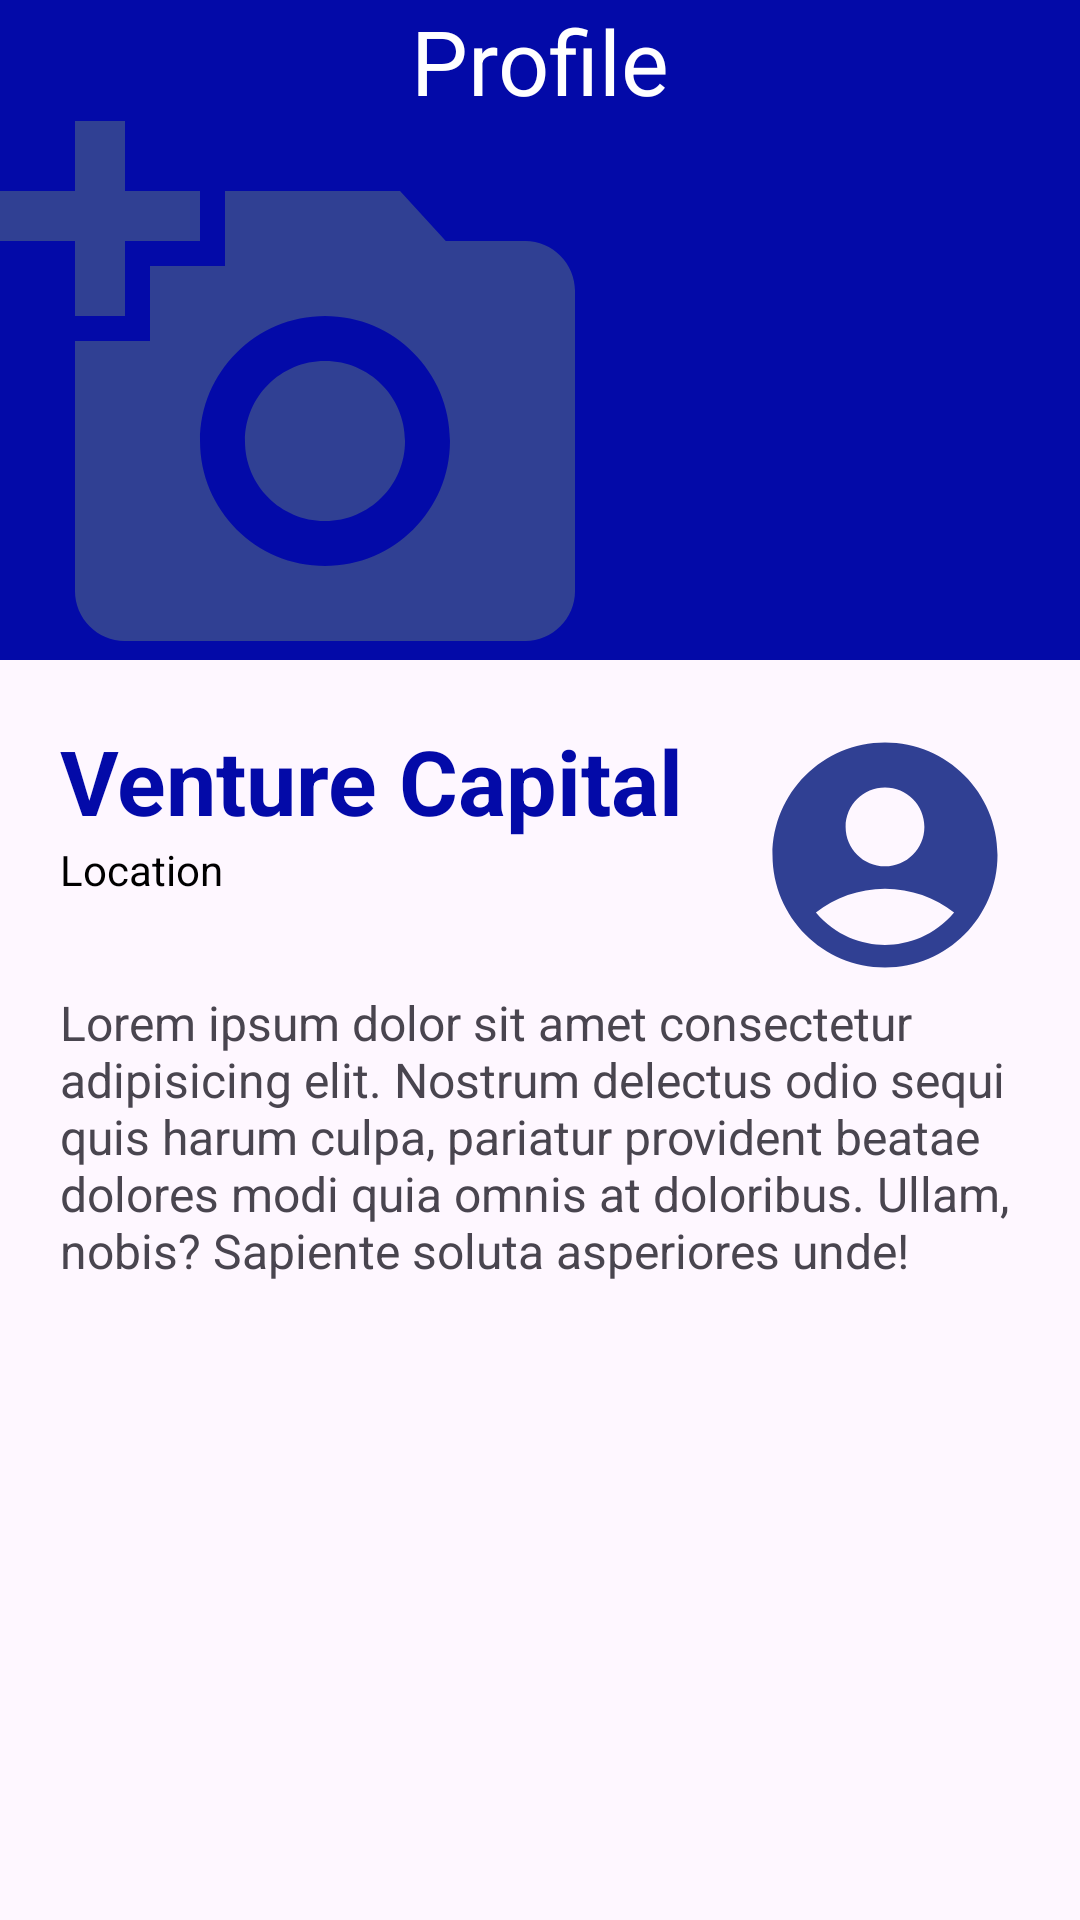

Screen size 1080w x 1920h. Icon name, then its center in pixels as (x=x, y=y):
profile: (x=885, y=855)
